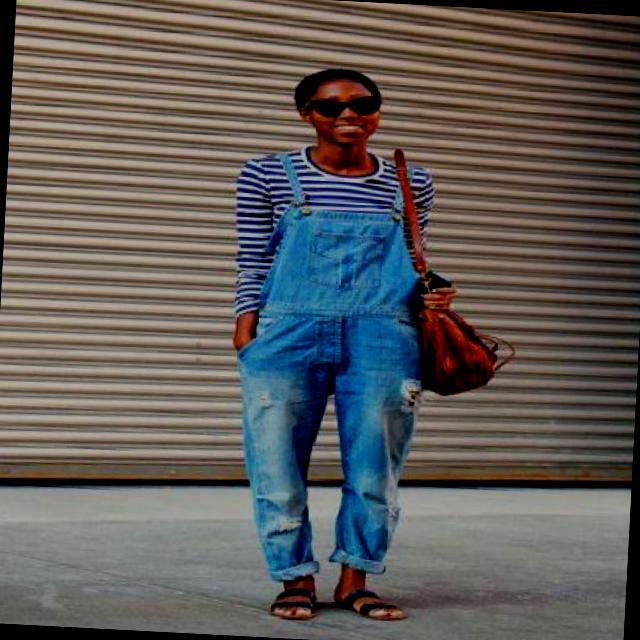Person: (184, 41, 515, 640)
